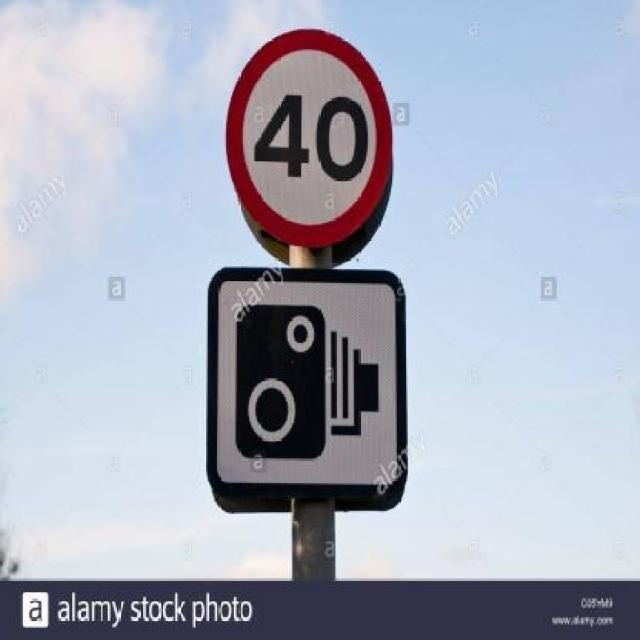forb_speed_over_40: (228, 31, 391, 244)
